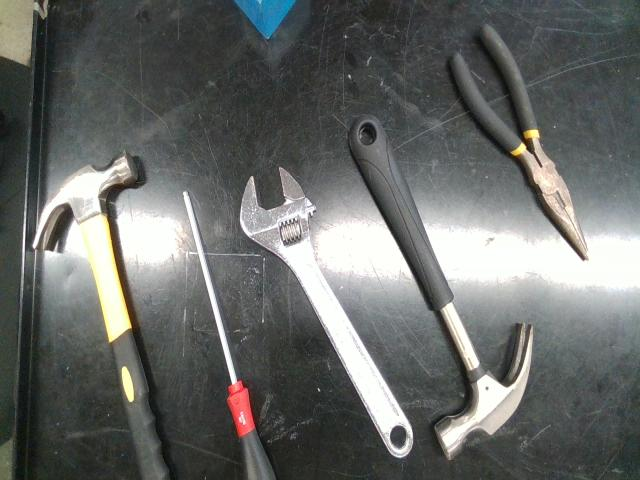Adjustable spanner: (240, 167, 412, 458)
Hammer: (349, 117, 532, 459), (32, 152, 169, 480)
Needle-nose pliers: (451, 25, 589, 260)
Screwdriver: (184, 192, 275, 480)
